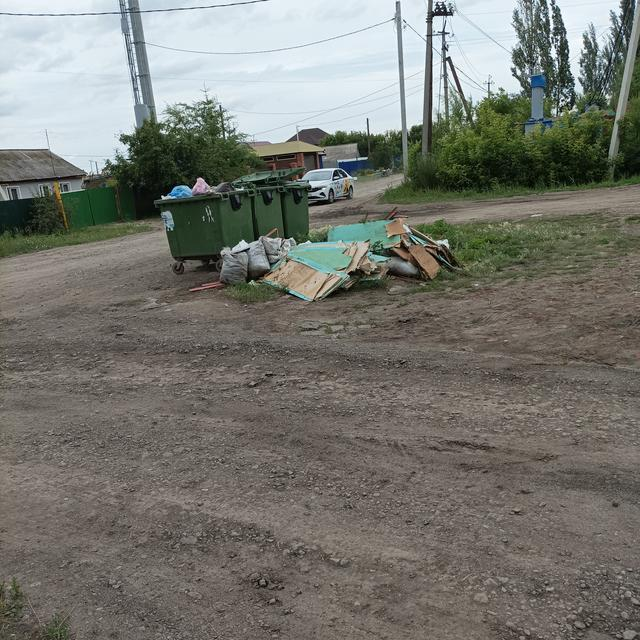Trash_Can_Full: (154, 178, 255, 260)
